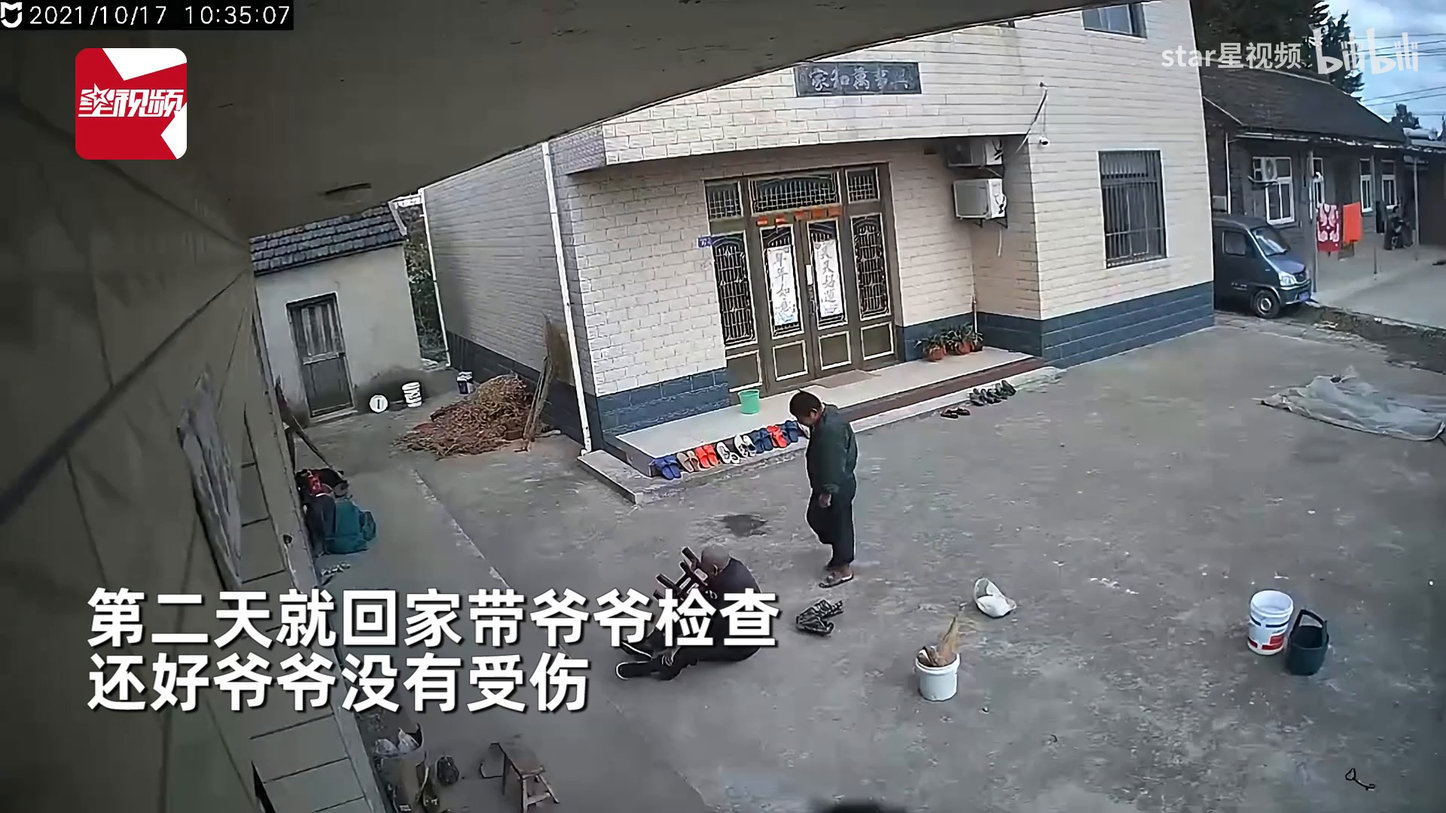half_up: (612, 538, 771, 686)
stand: (789, 389, 860, 586)
